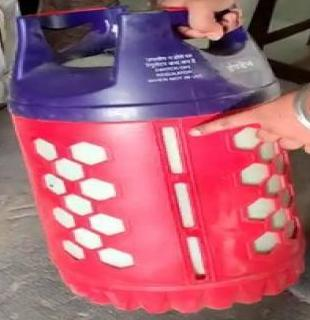cylinder: (1, 1, 310, 320)
